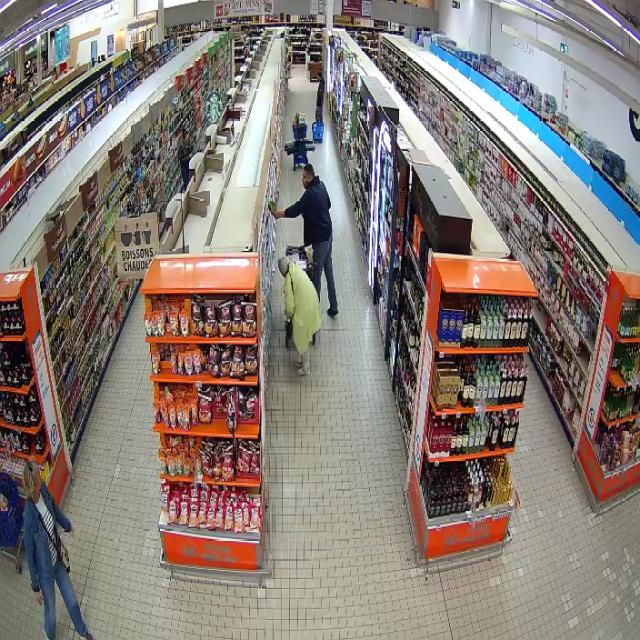article: (268, 200, 278, 210)
hands: (270, 209, 284, 219)
person: (272, 163, 338, 317), (278, 257, 320, 374)
